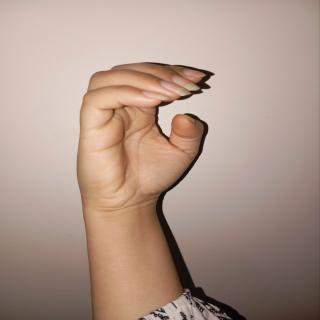JEEM: (77, 55, 212, 222)
